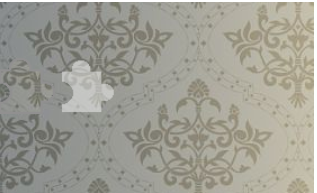target: (56, 57, 118, 117)
